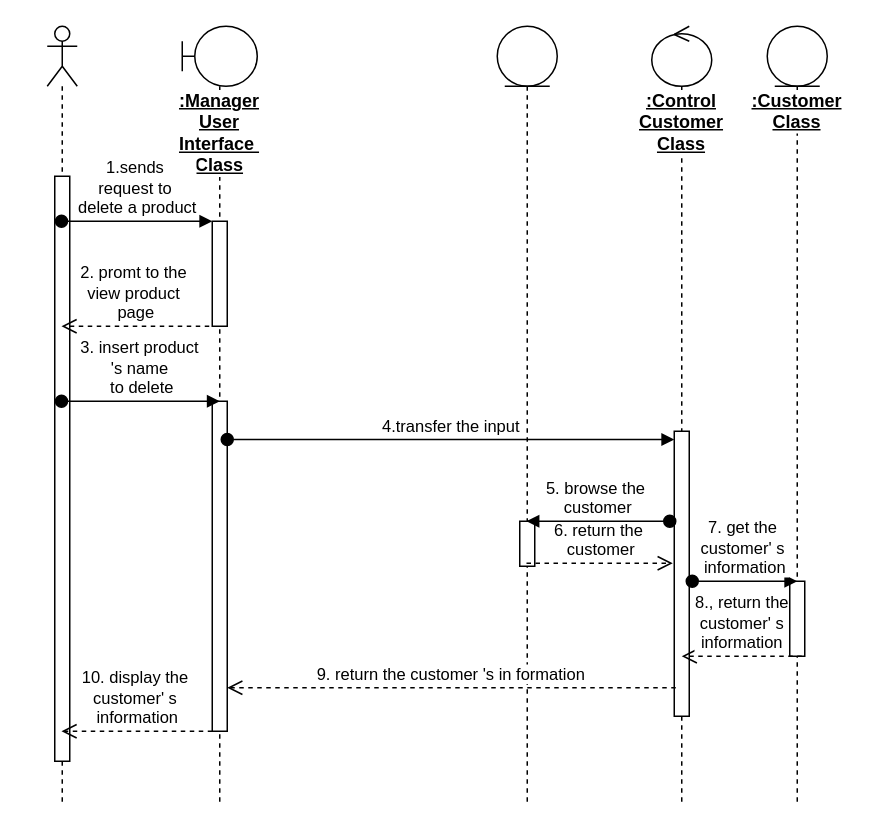
Some shapes in this 869 by 833 pixel diagram are drawn without their labels. The box of each missing label's shape, as (x1, y1, x2, y2) in pixels:
:Customer List Class: (496, 25, 557, 806)
Manager: (46, 25, 77, 806)
